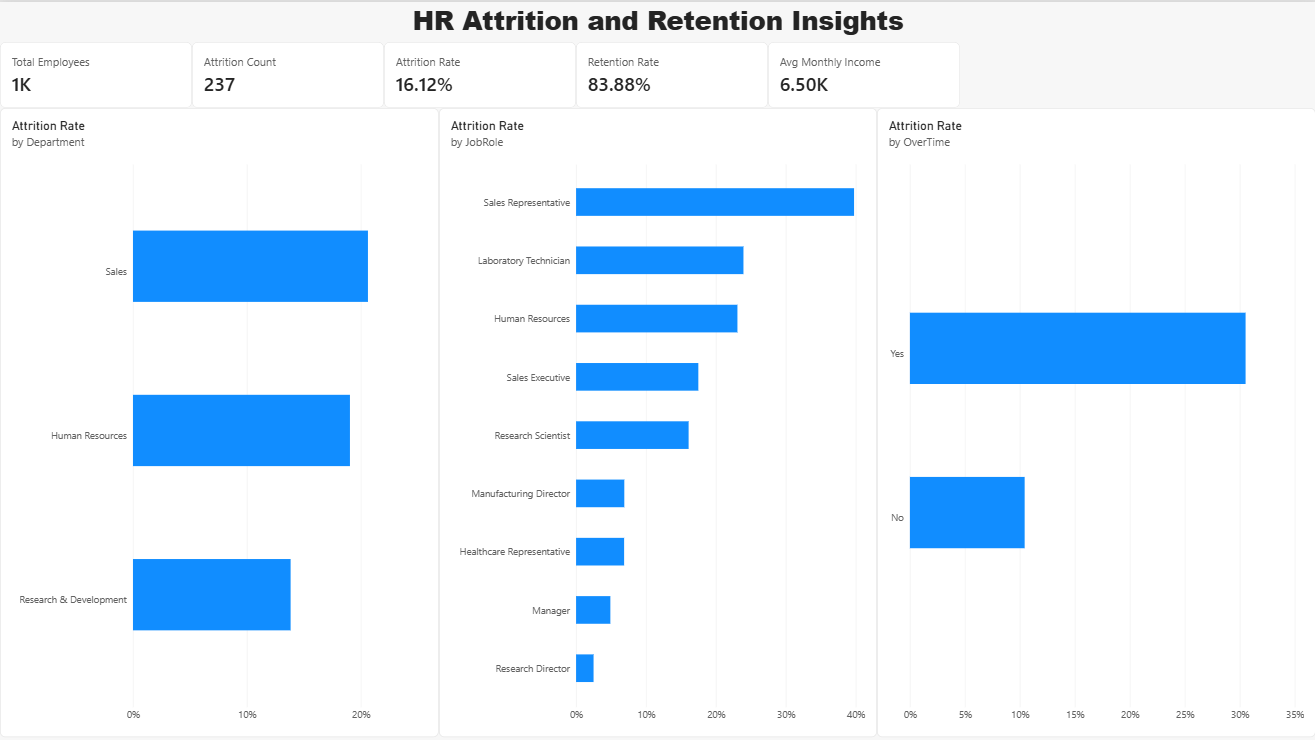

The dashboard page shown, as its layout file describes it:
{"tool":"powerbi","page":{"name":"Overview","canvas":[1920,1080],"ordinal":0},"visuals":[{"type":"cardVisual","fields":{"Data":["_Measures.Total Employees"]},"box":[0,58.4,280.1,96.3],"z":0},{"type":"cardVisual","fields":{"Data":["_Measures.Attrition Count"]},"box":[280.1,58.4,280.1,96.3],"z":1000},{"type":"cardVisual","fields":{"Data":["_Measures.Attrition Rate"]},"box":[560.2,58.4,280.1,96.3],"z":2000},{"type":"cardVisual","fields":{"Data":["_Measures.Retention Rate"]},"box":[840.4,58.4,280.1,96.3],"z":3000},{"type":"cardVisual","fields":{"Data":["_Measures.Avg Monthly Income"]},"box":[1120.5,58.4,280.1,96.3],"z":4000},{"type":"clusteredBarChart","fields":{"Category":["hr_attrition_cleaned.Department"],"Y":["_Measures.Attrition Rate"]},"box":[0,154.7,640.5,917.7],"z":5000},{"type":"clusteredBarChart","fields":{"Category":["hr_attrition_cleaned.JobRole"],"Y":["_Measures.Attrition Rate"]},"box":[640.5,154.7,639,917.7],"z":6000},{"type":"clusteredBarChart","fields":{"Category":["hr_attrition_cleaned.OverTime"],"Y":["_Measures.Attrition Rate"]},"box":[1279.5,154.7,640.5,917.7],"z":7000},{"type":"textbox","box":[0,0,1920,58.4],"z":8000}]}

Visuals, with their boxes in screenshot pixels (x1, y1, x2, y2), scaled from the page's 1920x1080 canvas onto the 1315x740 screenshot:
cardVisual - _Measures.Total Employees: x1=0 y1=40 x2=192 y2=106
cardVisual - _Measures.Attrition Count: x1=192 y1=40 x2=384 y2=106
cardVisual - _Measures.Attrition Rate: x1=384 y1=40 x2=576 y2=106
cardVisual - _Measures.Retention Rate: x1=576 y1=40 x2=767 y2=106
cardVisual - _Measures.Avg Monthly Income: x1=767 y1=40 x2=959 y2=106
clusteredBarChart - hr_attrition_cleaned.Department x _Measures.Attrition Rate: x1=0 y1=106 x2=439 y2=735
clusteredBarChart - hr_attrition_cleaned.JobRole x _Measures.Attrition Rate: x1=439 y1=106 x2=876 y2=735
clusteredBarChart - hr_attrition_cleaned.OverTime x _Measures.Attrition Rate: x1=876 y1=106 x2=1314 y2=735
textbox: x1=0 y1=0 x2=1314 y2=40
